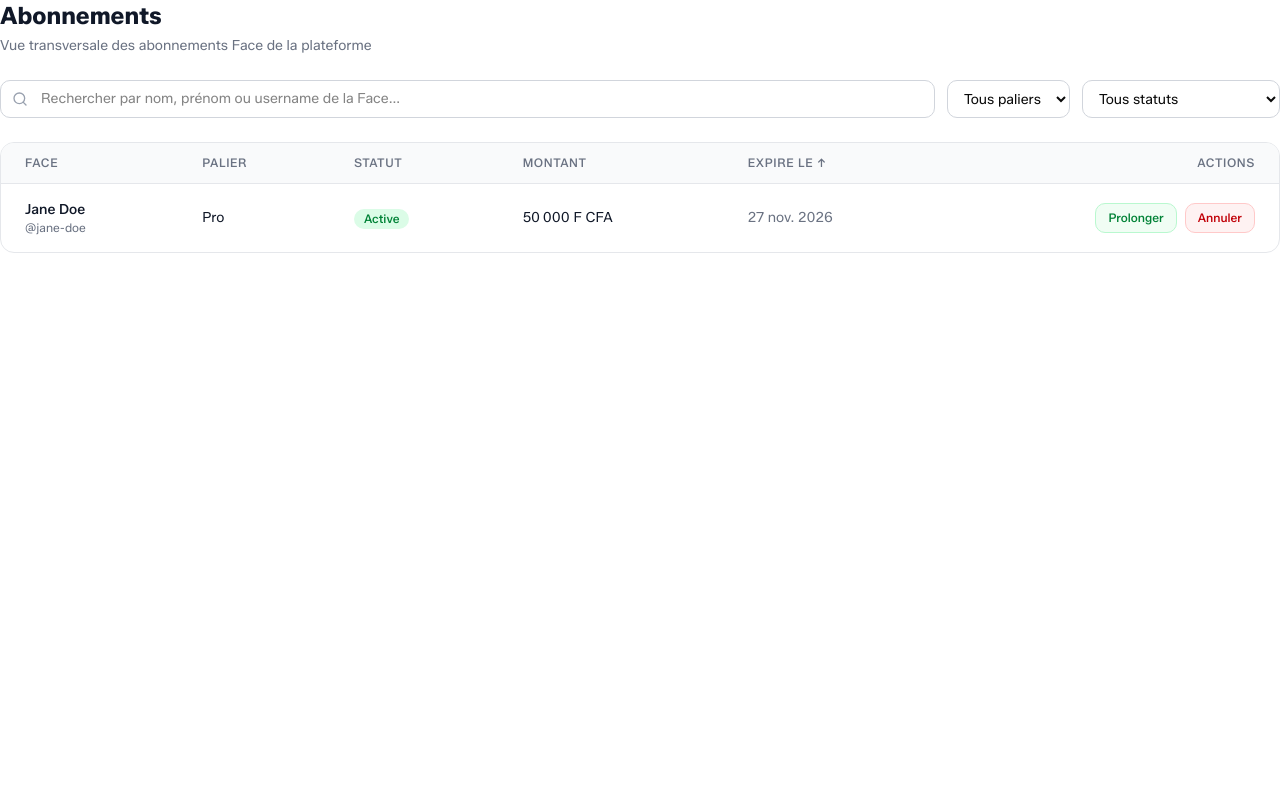
AdminSubscriptionsListPage › modale Prolonger : succès → payload correct, toast, liste et stats rafraîchies
Click the button with test id "extend-button" at (1136, 218), box [1095, 203, 1177, 233]
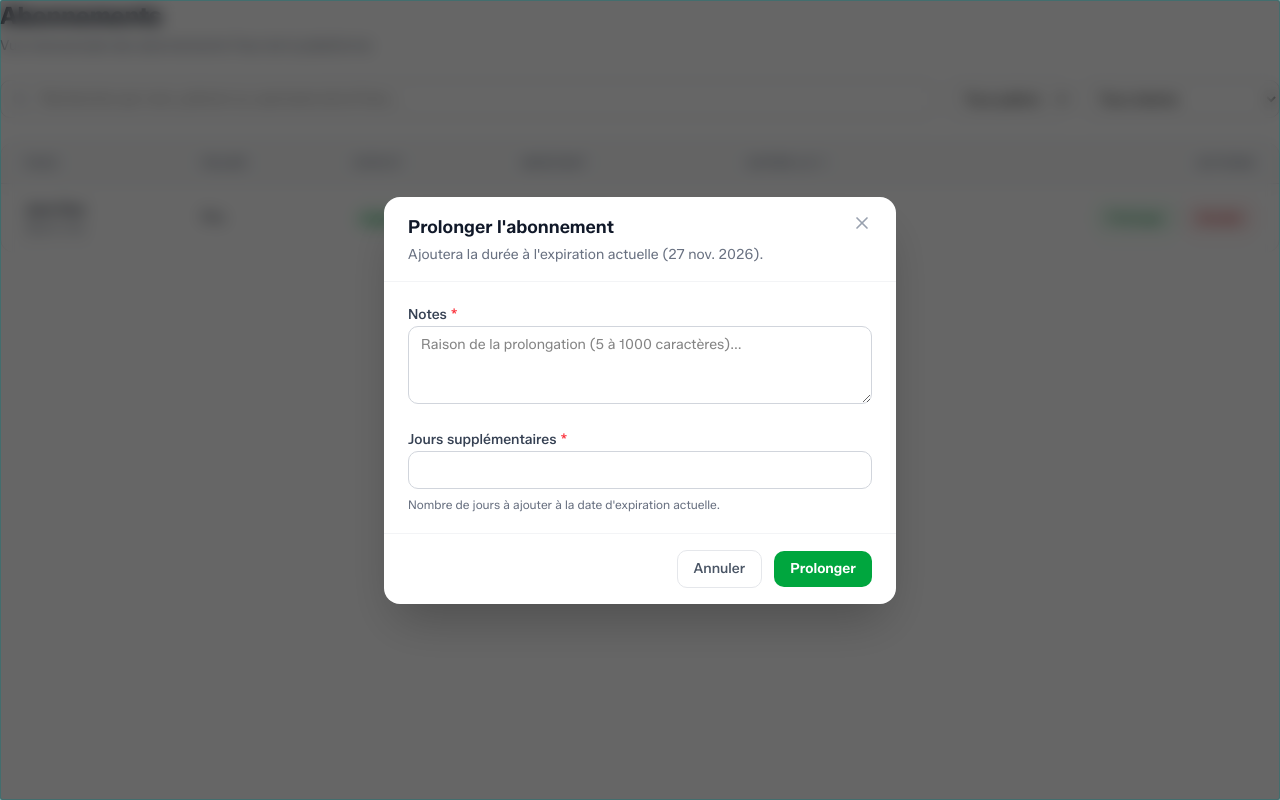
Type "Prolongation geste commercial" into the text box with test id "extend-notes" at (640, 364), box [408, 326, 872, 404]
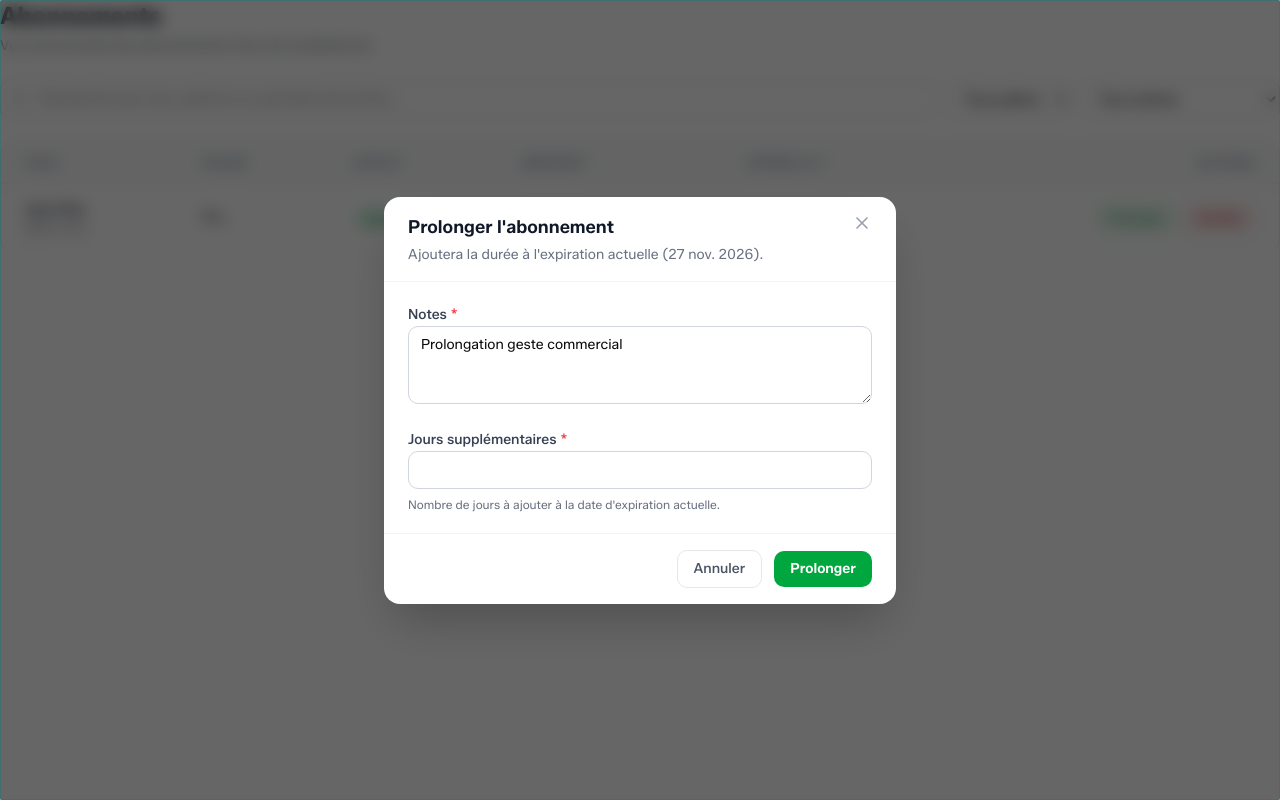
Type "30" into the number field with test id "extend-additional-days" at (640, 470), box [408, 450, 872, 488]
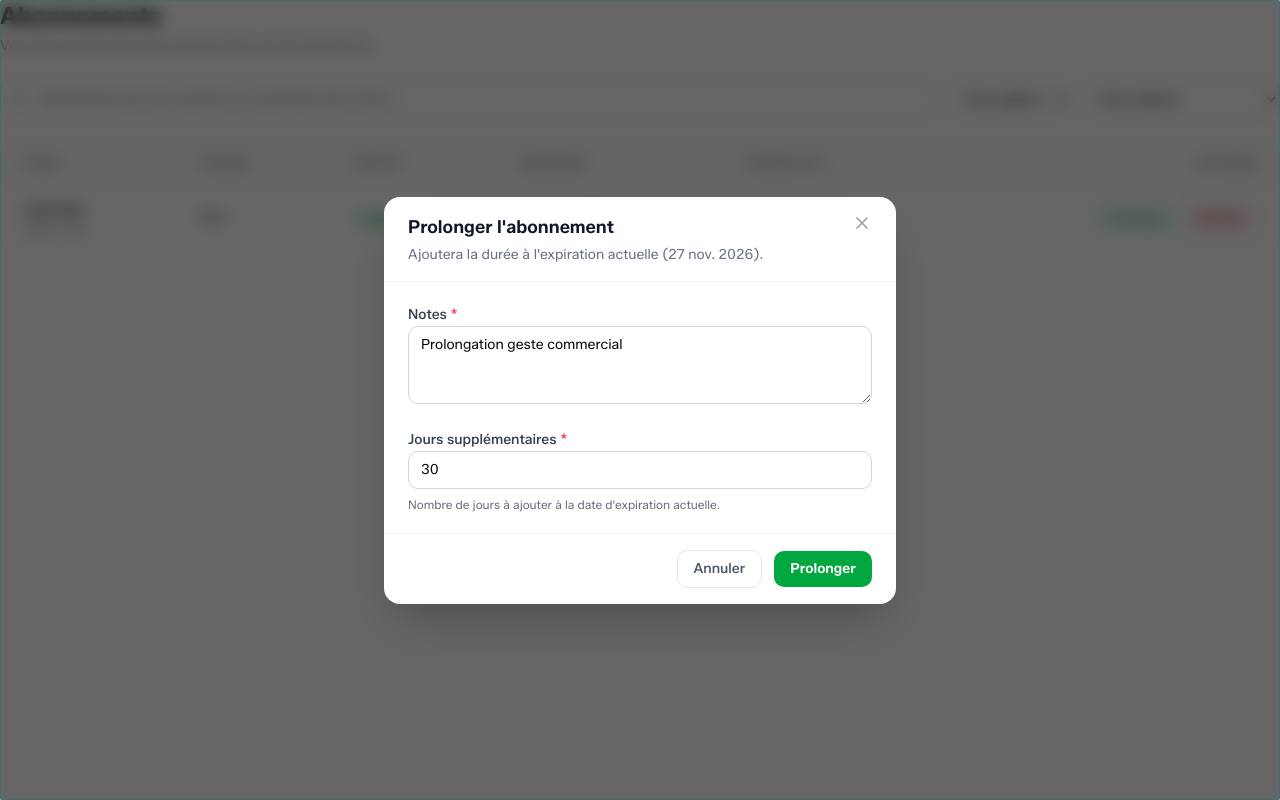
Click the button with test id "extend-submit" at (823, 568), box [774, 550, 872, 586]
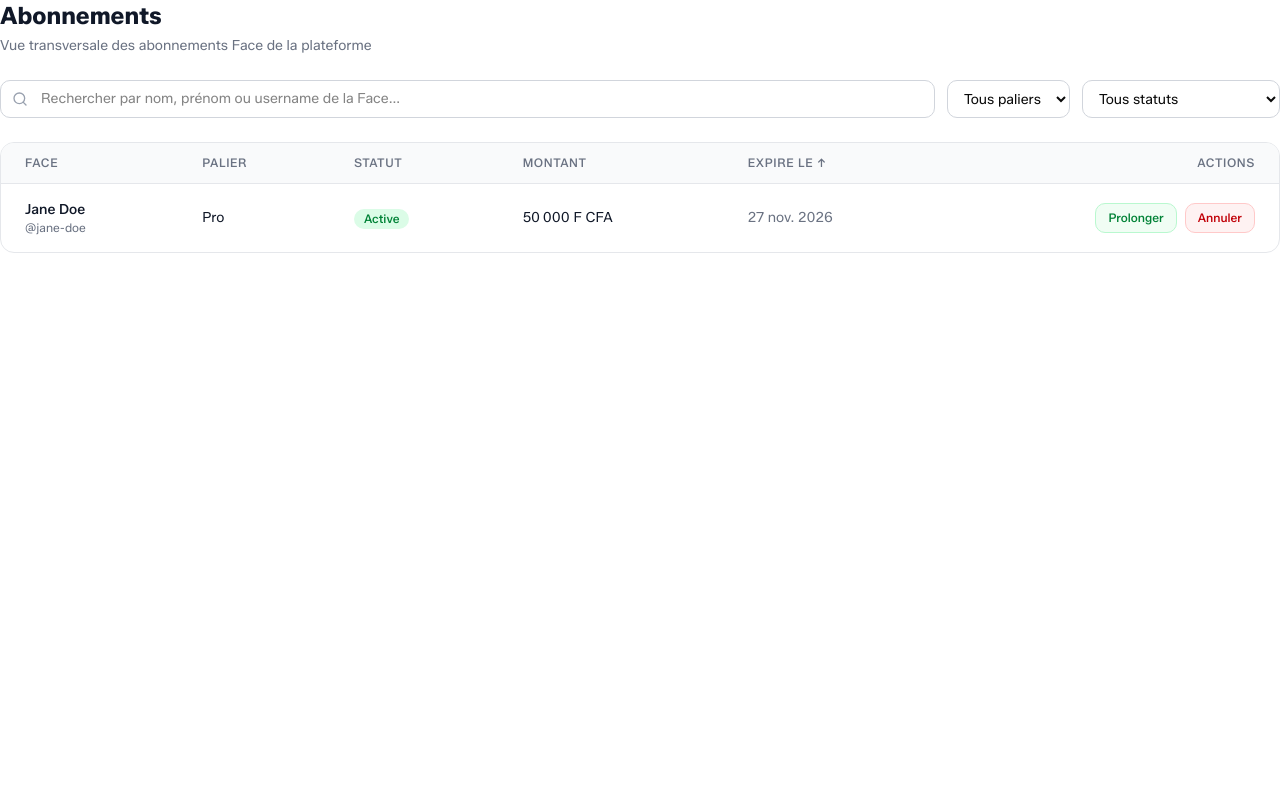
Result: the dialog with test id "subscriptions-extend-modal" is gone
